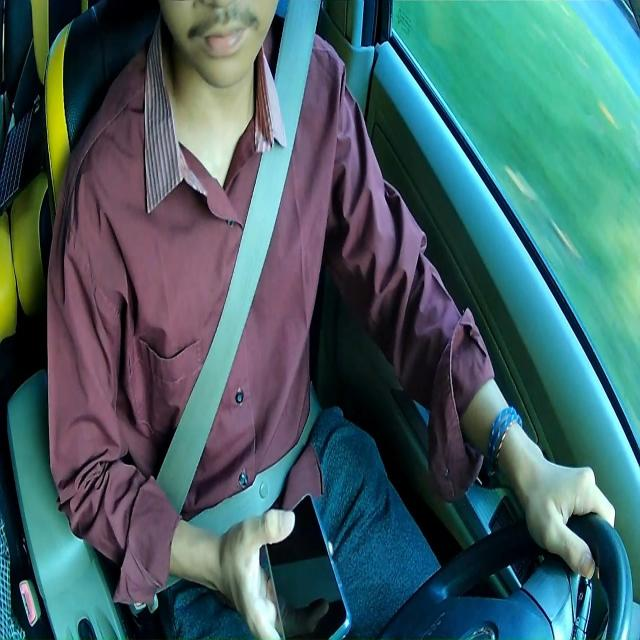phone: (263, 490, 351, 639)
